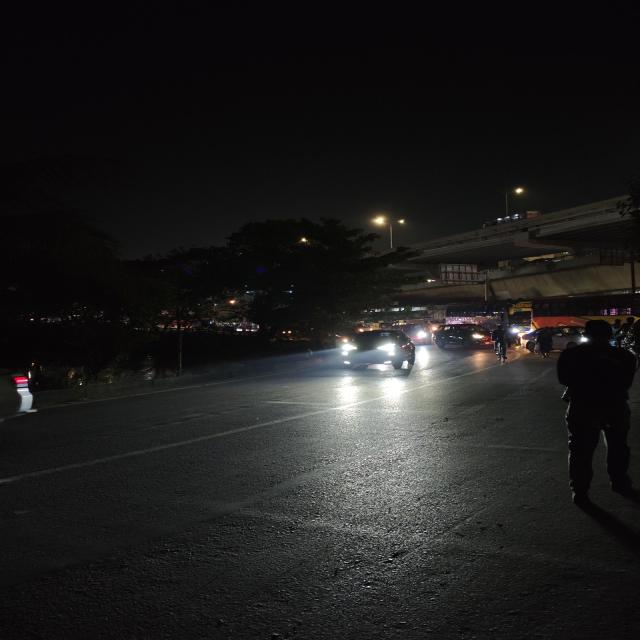bicycle: (489, 323, 514, 364)
car: (332, 327, 424, 379), (432, 321, 490, 351)
pedestrian: (549, 319, 640, 515), (534, 325, 556, 359)
